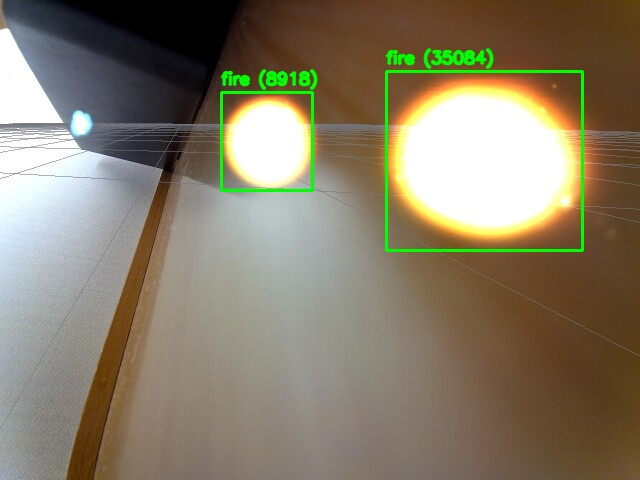fire: (386, 71, 582, 250), (221, 92, 312, 190)
